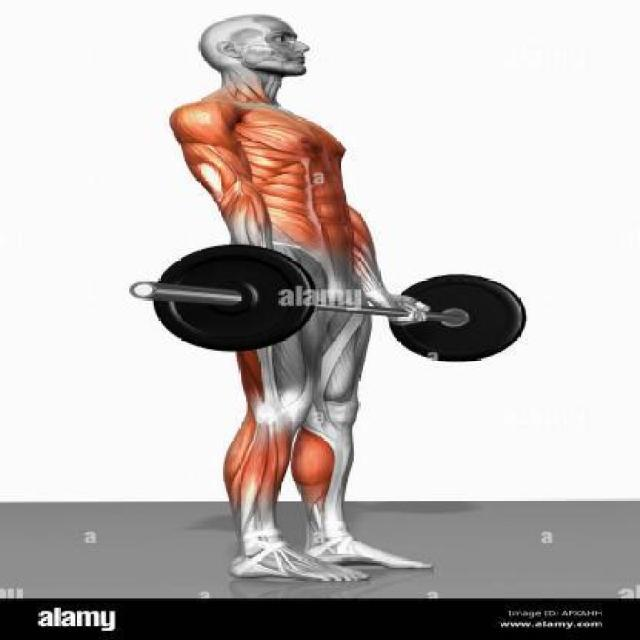barbell: (123, 241, 315, 358)
